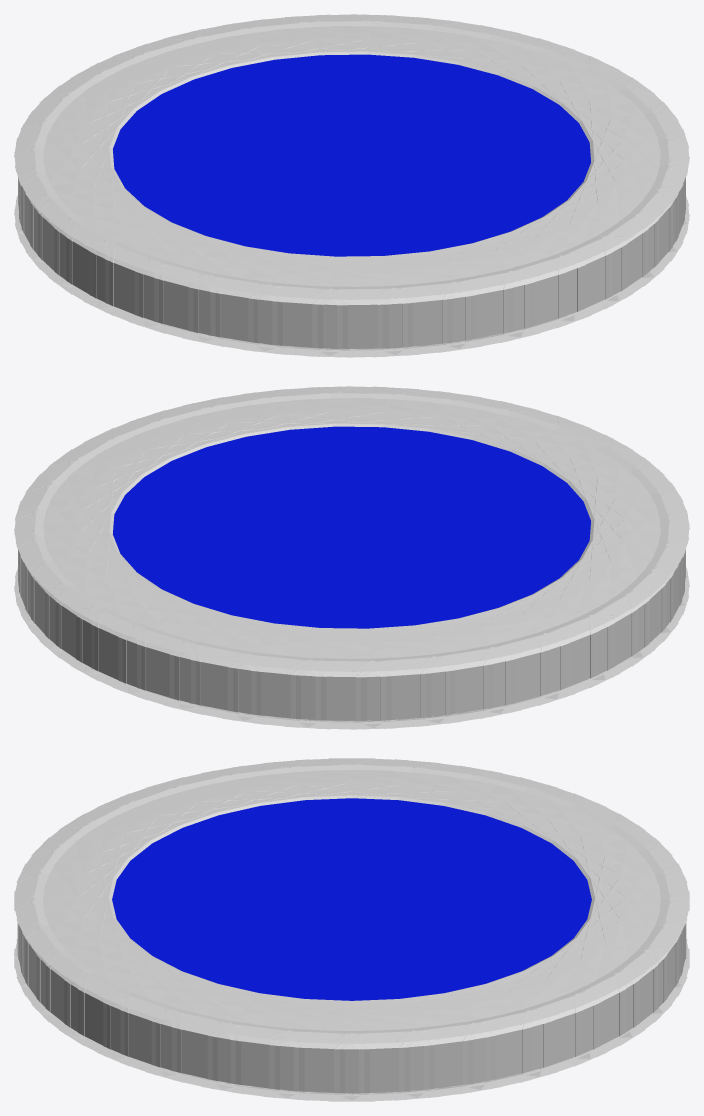
The model's file is Platform_Big.fbx.
3 renders of one model, top to bottom at view 1: azimuth 30°, elevation 25°; view 2: azimuth 150°, elevation 25°; view 3: azimuth 270°, elevation 25°, orthographic.
Visible parts, largest first — view 1: 실린더; view 2: 실린더; view 3: 실린더.
Boxes of the visible parts, x1,y1,x2,y2 form: 실린더: [14, 14, 689, 357]; 실린더: [14, 386, 689, 729]; 실린더: [14, 758, 689, 1101].
Bounding box in the file's own units: 202 × 21 × 202.
